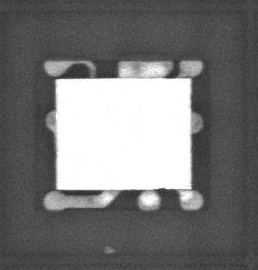DIE_INK: (101, 244, 118, 256)
